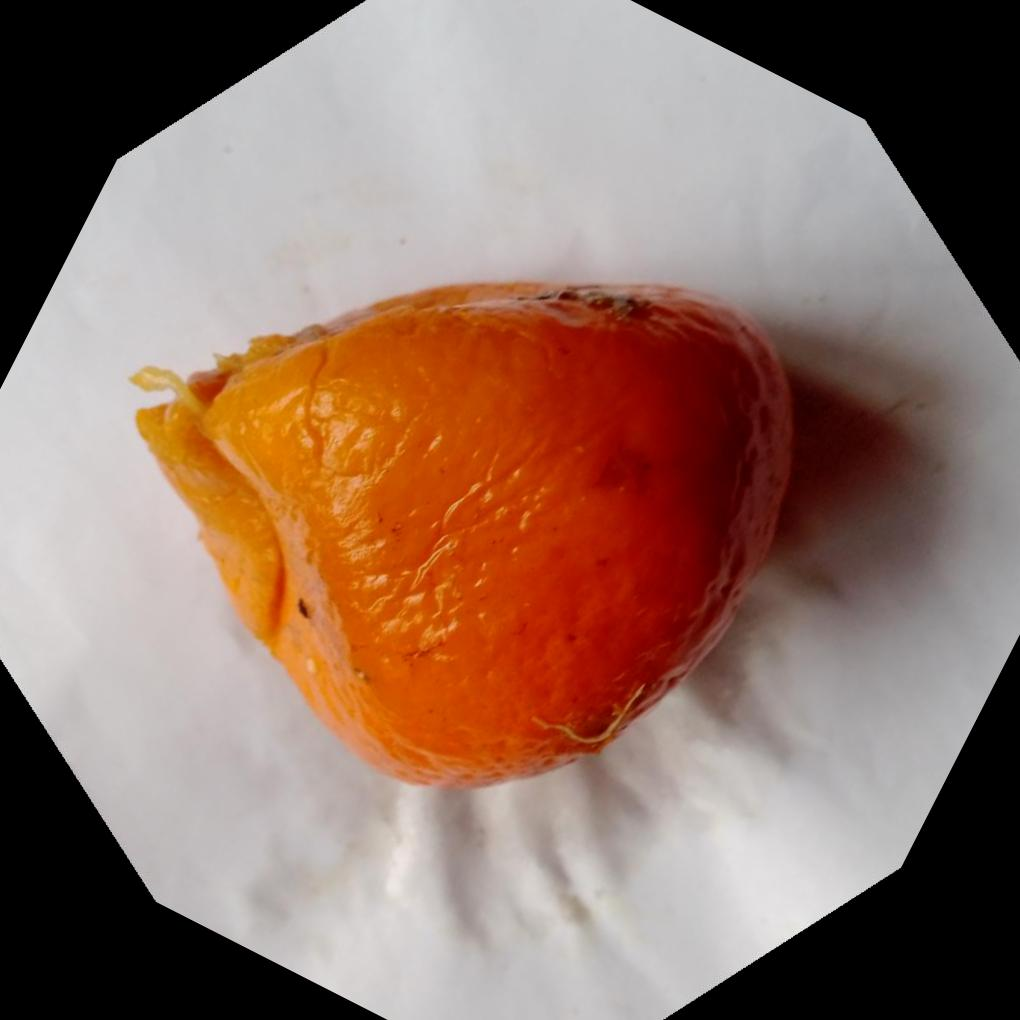FreshOrange: (134, 278, 800, 792)
